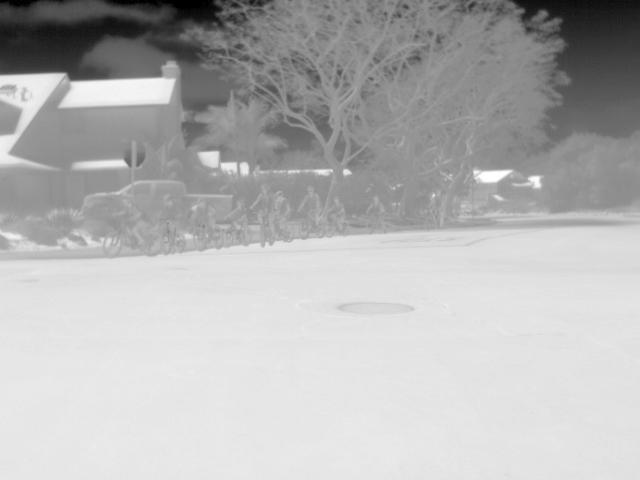car: (134, 179, 233, 223), (82, 184, 129, 216)
person: (114, 195, 143, 245), (190, 198, 221, 241), (253, 182, 276, 229), (155, 194, 179, 238), (361, 193, 390, 228), (299, 184, 322, 228), (329, 195, 350, 233), (232, 197, 253, 231), (275, 189, 292, 226)
